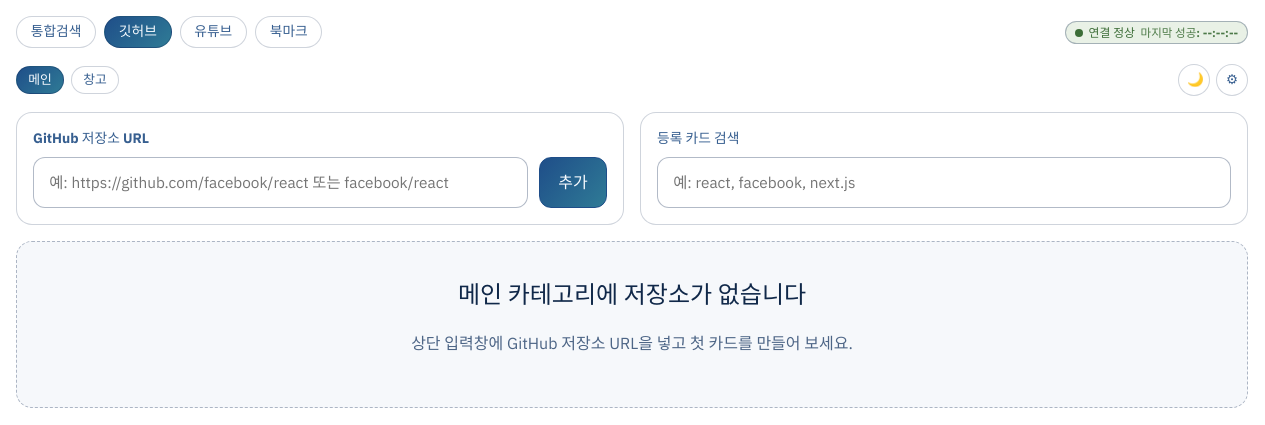
Test: AppShell › switches to unified-search section and hides github board
Click the tab "통합검색": coordinates (56, 32) [16,16,96,48]
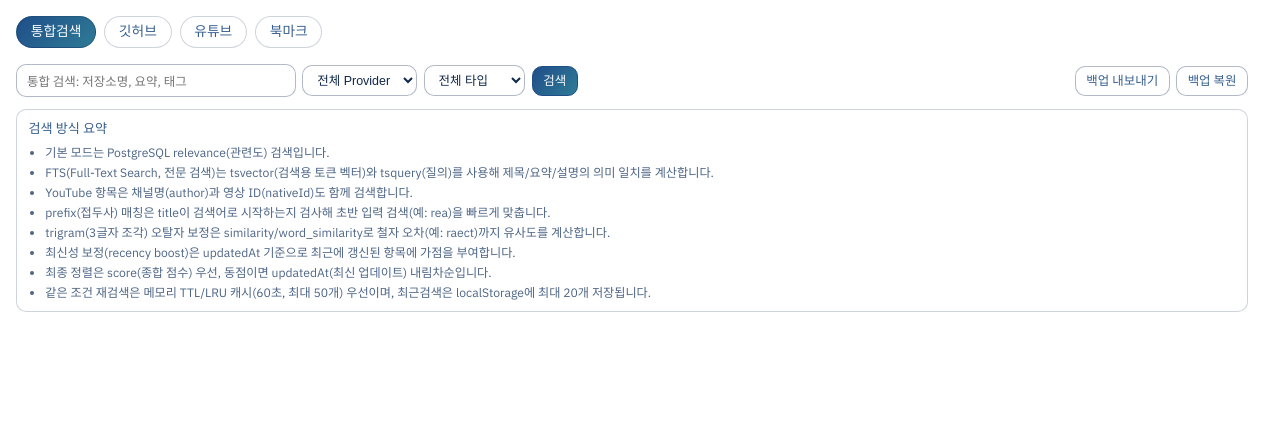
Now the field named "통합 검색어" is shown, box [16,64,296,97]
Now the label labelled "GitHub 저장소 URL" is gone
